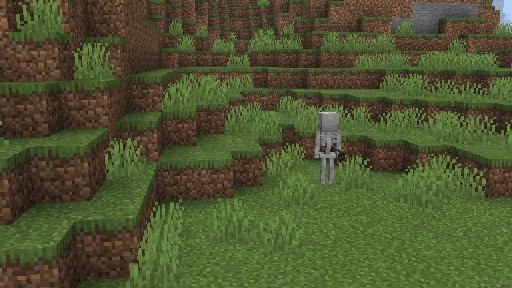skeleton: (313, 111, 345, 183)
